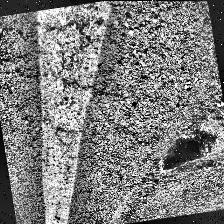pothole: (155, 124, 221, 172)
